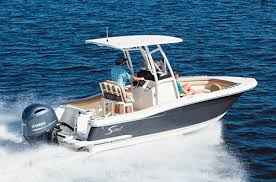boat: (23, 28, 259, 155)
